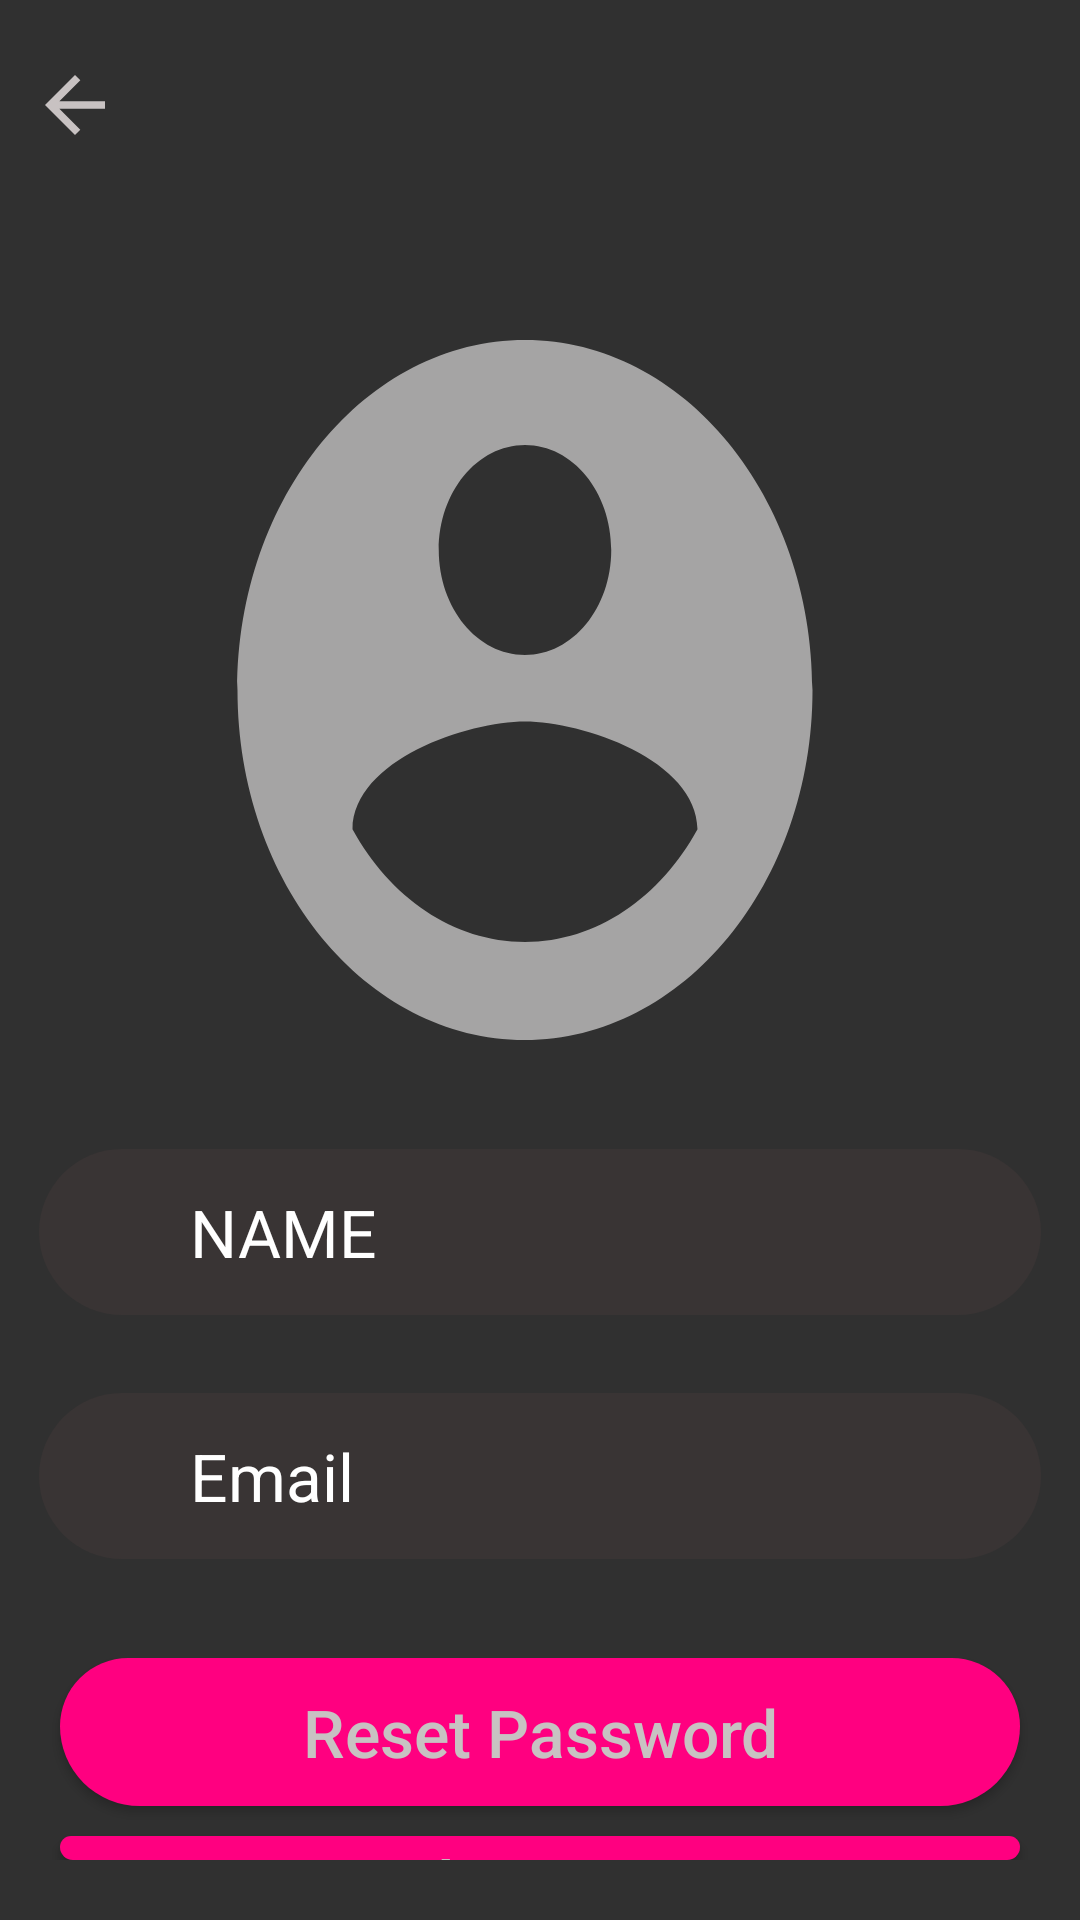

Screen size 1080 x 1920. Icon name, then its center in pixels as (x=x, y=y):
arrow back: (x=75, y=105)
